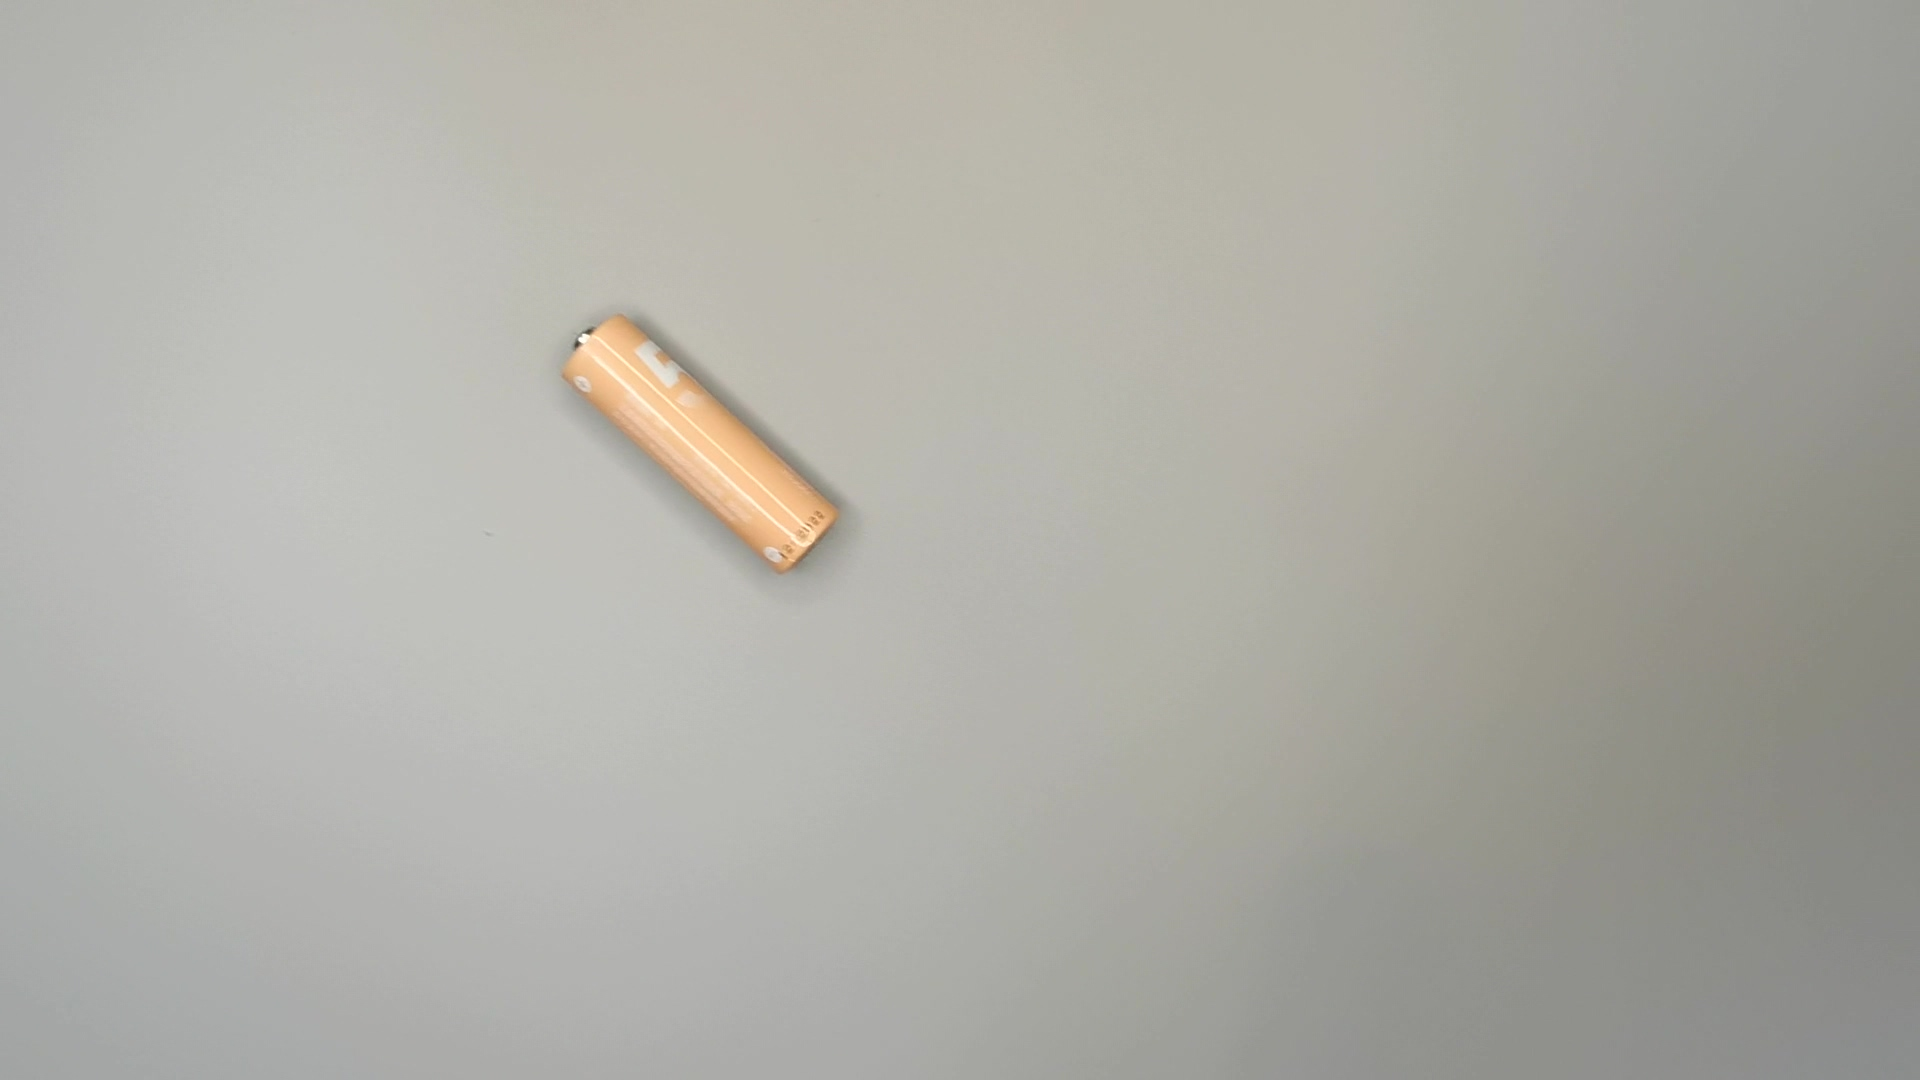battery: (556, 309, 841, 579)
